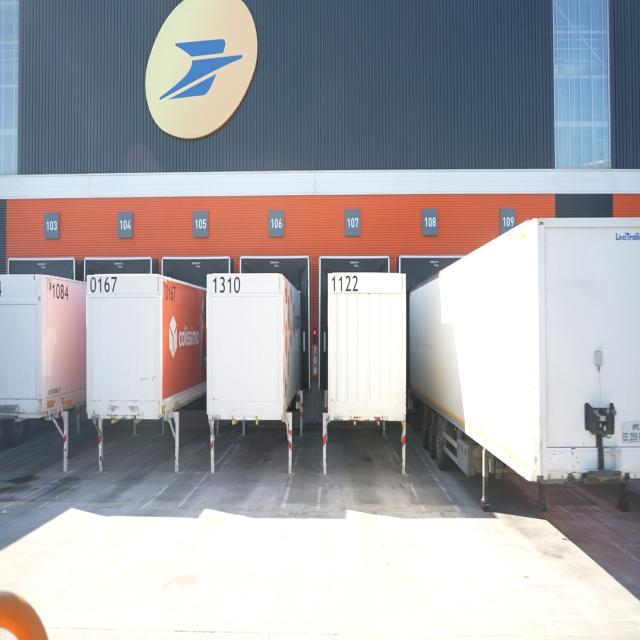Code: (328, 272, 359, 294), (210, 274, 240, 294), (88, 275, 120, 293), (48, 279, 70, 303), (162, 280, 178, 305)
